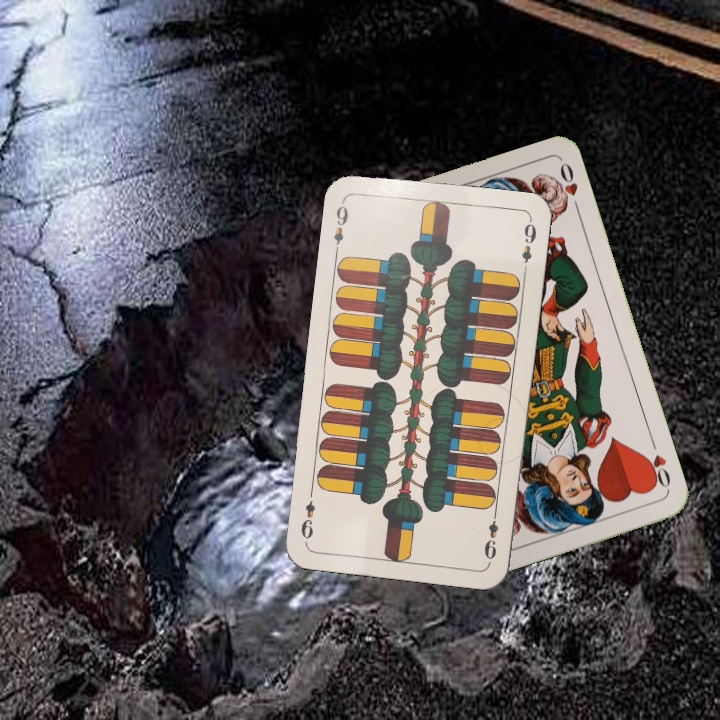E9: (329, 195, 351, 254), (480, 505, 501, 564)
HO: (640, 435, 673, 493)
